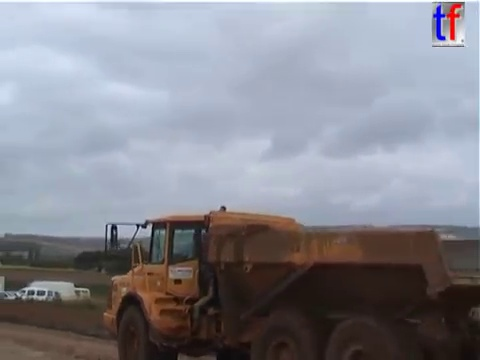truck: (99, 203, 480, 360)
